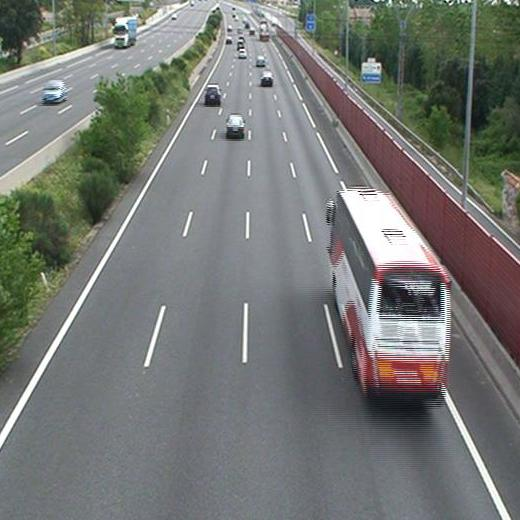bus: (331, 190, 452, 395)
car: (226, 114, 245, 135), (205, 86, 221, 103), (261, 71, 272, 84), (255, 56, 266, 66), (237, 49, 247, 58)
